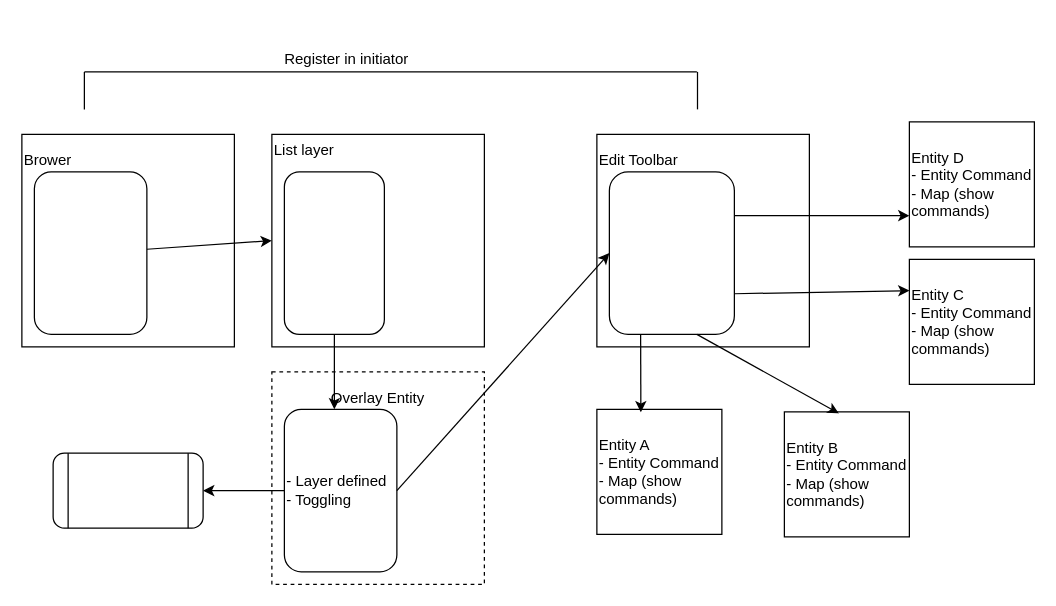
This 1056x606 diagram has some shape labels left out. The centre of each missing label's shape, as x and y in pixels:
"- Overlay A - Overlay B - Overlay C - etc..." belongs at point 333,252.
"Entity Folder - Icon defined - Layer defined - External Id" belongs at point 90,252.
"Groups - Entity A - Entity B - Entity C - Entity D - etc" belongs at point 671,252.
"instance/overlay" belongs at point 127,490.
